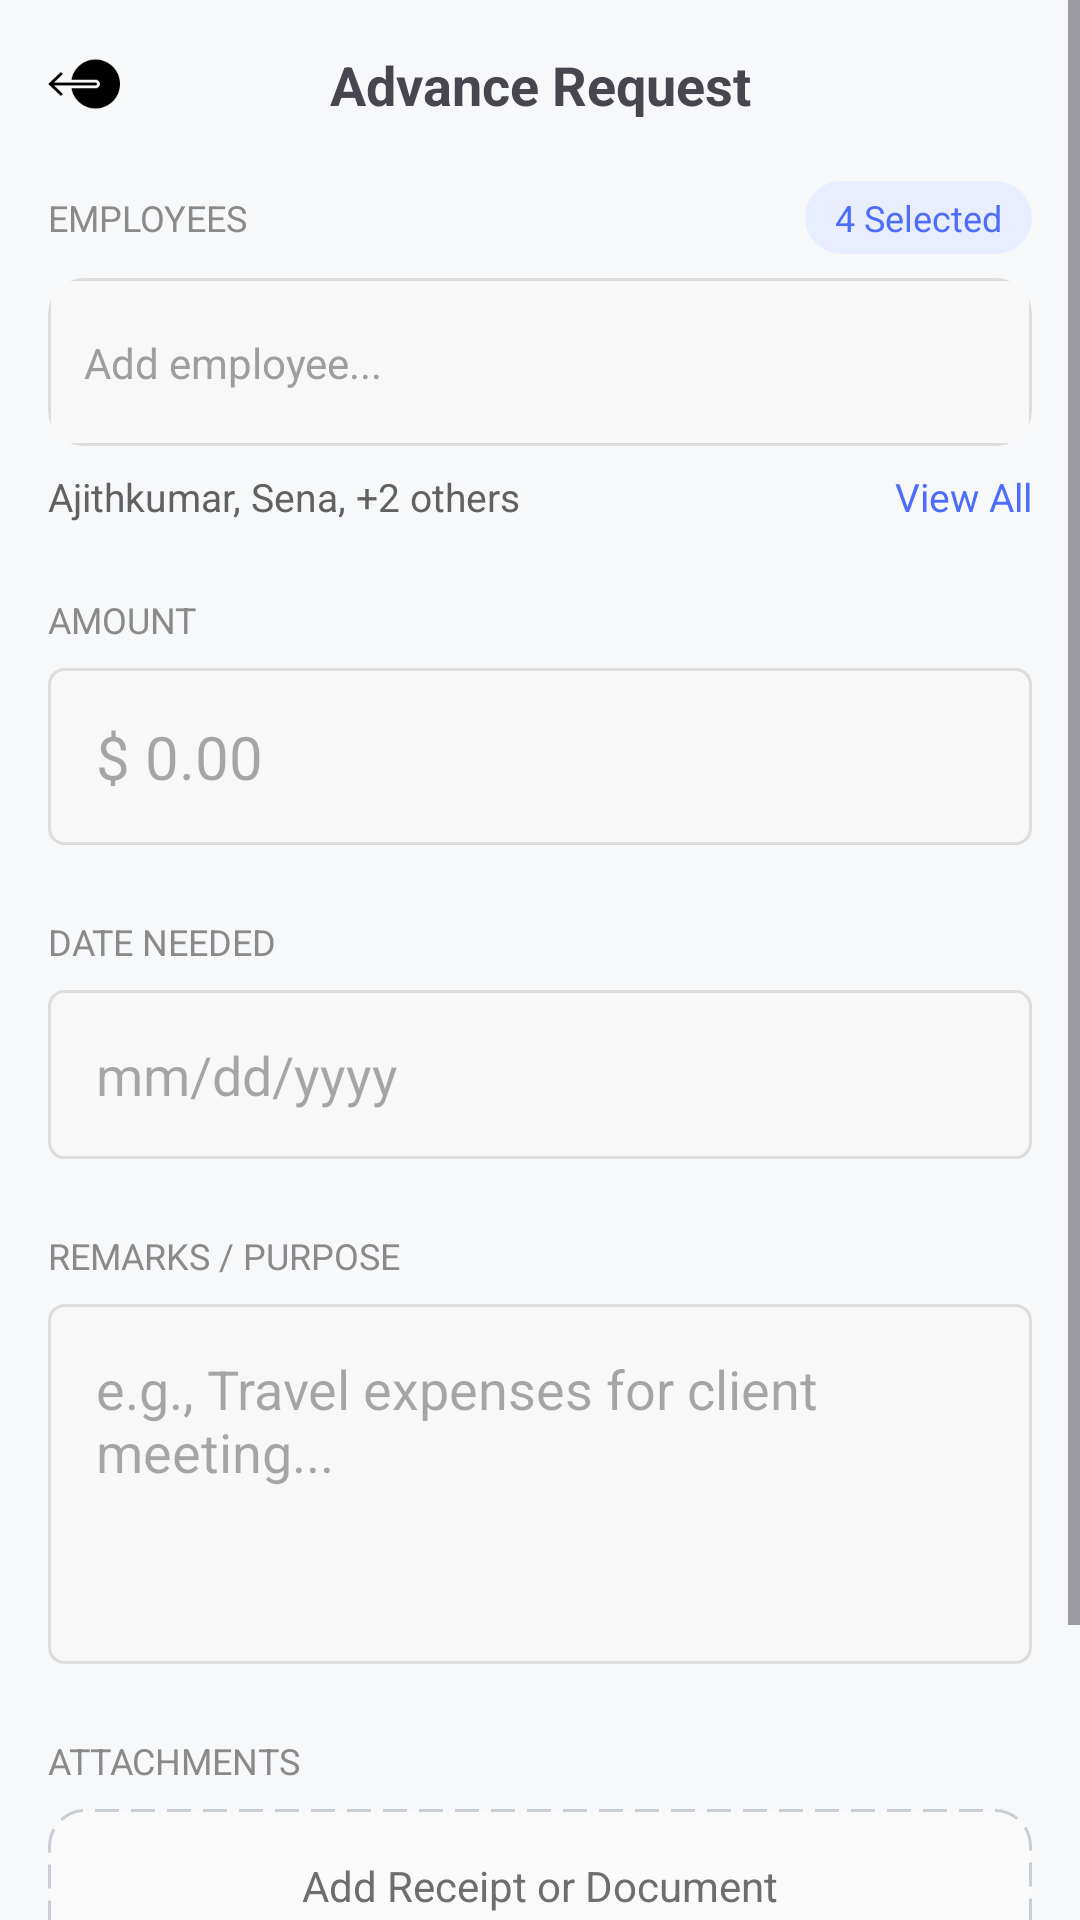

Icon click points for this 1080 x 1920 phone screenshot, format (x,y):
arrow back: (84,84)
